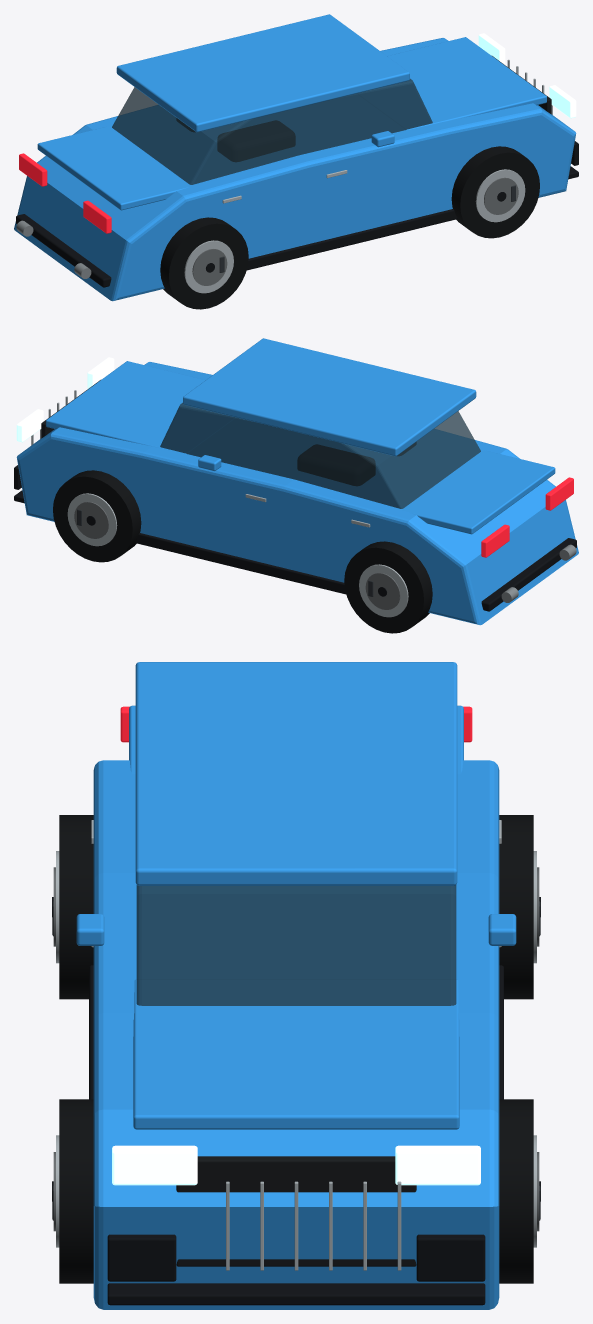
The model's file is ford_flex.glb.
The picture shows the model from 3 angles, top to bottom: view 1: azimuth 30°, elevation 25°; view 2: azimuth 150°, elevation 25°; view 3: azimuth 270°, elevation 25°; orthographic projection. The views are drawn at different scales.
Visible parts, largest first — view 1: sculpted_body, roof, glasshouse, hood_center, rear_deck, rear_right_wheel_tire, front_right_wheel_tire, side_skirt_1, seat_1, rear_diffuser, rear_right_wheel_rim, front_right_wheel_rim (+6 smaller); view 2: sculpted_body, roof, glasshouse, hood_center, rear_deck, rear_left_wheel_tire, front_left_wheel_tire, side_skirt_-1, seat_-1, rear_diffuser, rear_left_wheel_rim, front_left_wheel_rim (+6 smaller); view 3: sculpted_body, roof, hood_center, glasshouse, front_grille, front_splitter, front_left_wheel_tire, front_right_wheel_tire, rear_left_wheel_tire, rear_right_wheel_tire, headlight_right, headlight_left (+5 smaller).
Boxes of the visible parts, bbox=[...] form: sculpted_body: bbox=[14, 38, 576, 301]; roof: bbox=[116, 14, 409, 132]; glasshouse: bbox=[112, 78, 432, 184]; hood_center: bbox=[358, 37, 546, 129]; rear_deck: bbox=[37, 126, 190, 210]; rear_right_wheel_tire: bbox=[160, 217, 248, 309]; front_right_wheel_tire: bbox=[451, 146, 539, 238]; side_skirt_1: bbox=[246, 209, 457, 270]; seat_1: bbox=[218, 121, 294, 161]; rear_diffuser: bbox=[16, 214, 111, 287]; rear_right_wheel_rim: bbox=[184, 240, 233, 293]; front_right_wheel_rim: bbox=[475, 169, 525, 222]; sculpted_body: bbox=[16, 362, 578, 625]; roof: bbox=[183, 338, 476, 456]; glasshouse: bbox=[160, 402, 480, 508]; hood_center: bbox=[46, 361, 234, 453]; rear_deck: bbox=[402, 450, 555, 534]; rear_left_wheel_tire: bbox=[344, 541, 432, 633]; front_left_wheel_tire: bbox=[53, 470, 141, 562]; side_skirt_-1: bbox=[135, 533, 346, 594]; seat_-1: bbox=[298, 445, 374, 485]; rear_diffuser: bbox=[481, 538, 576, 611]; rear_left_wheel_rim: bbox=[359, 564, 408, 617]; front_left_wheel_rim: bbox=[67, 493, 117, 546]; sculpted_body: bbox=[93, 760, 499, 1309]; roof: bbox=[135, 662, 457, 885]; hood_center: bbox=[133, 979, 459, 1129]; glasshouse: bbox=[136, 885, 456, 1005]; front_grille: bbox=[176, 1156, 416, 1266]; front_splitter: bbox=[107, 1283, 485, 1305]; front_left_wheel_tire: bbox=[499, 1099, 533, 1283]; front_right_wheel_tire: bbox=[59, 1099, 93, 1283]; rear_left_wheel_tire: bbox=[499, 815, 533, 999]; rear_right_wheel_tire: bbox=[59, 815, 93, 999]; headlight_right: bbox=[112, 1145, 197, 1185]; headlight_left: bbox=[395, 1145, 480, 1185].
Size of the model in its own units: 5.24 by 1.73 by 2.28.
